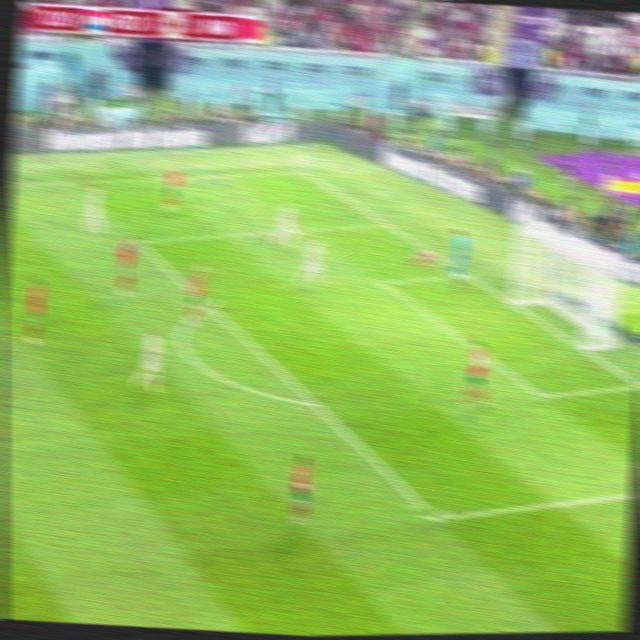bigarea_bottom_inner: (420, 503, 449, 531)
bigarea_top_inner: (124, 228, 146, 252)
bigarea_top_outter: (374, 214, 395, 231)
bottom_arc_area_intersection: (301, 391, 325, 414)
corner: (291, 163, 313, 179)
smallarea_bottom_inner: (526, 380, 554, 410)
smallarea_bottom_outter: (625, 372, 640, 397)
smallarea_top_inner: (371, 272, 393, 292)
smallarea_top_outter: (451, 263, 473, 283)
top_arc_area_intersection: (198, 294, 219, 315)
